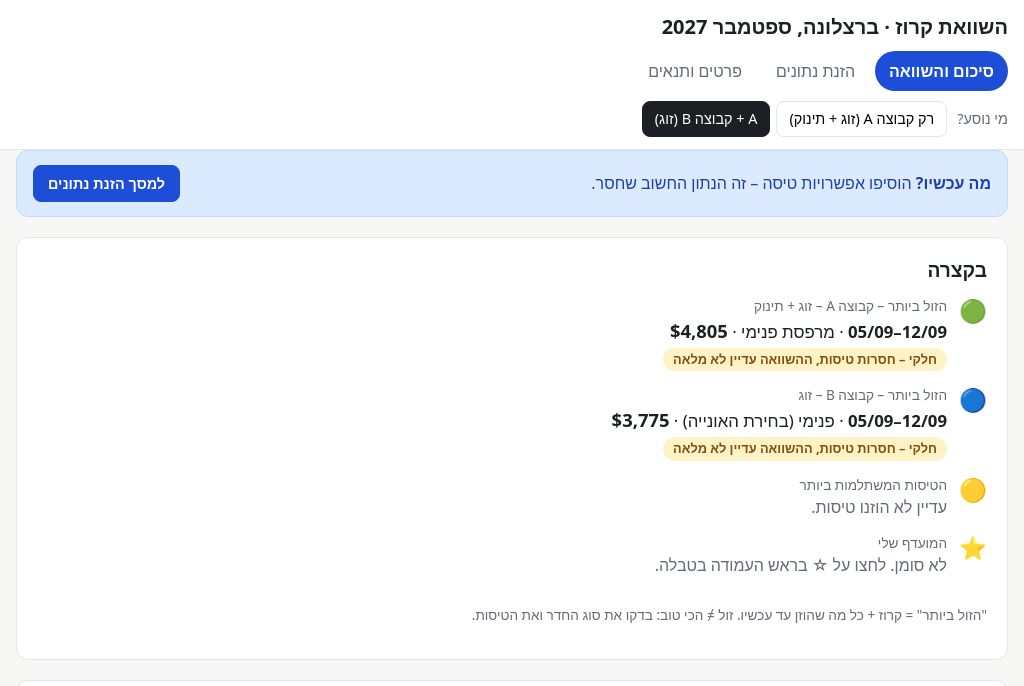
entry screen › can add a new cruise proposal with copied room names but no prices
Click the button "הזנת נתונים": click(815, 71) 762,51 -> 869,91
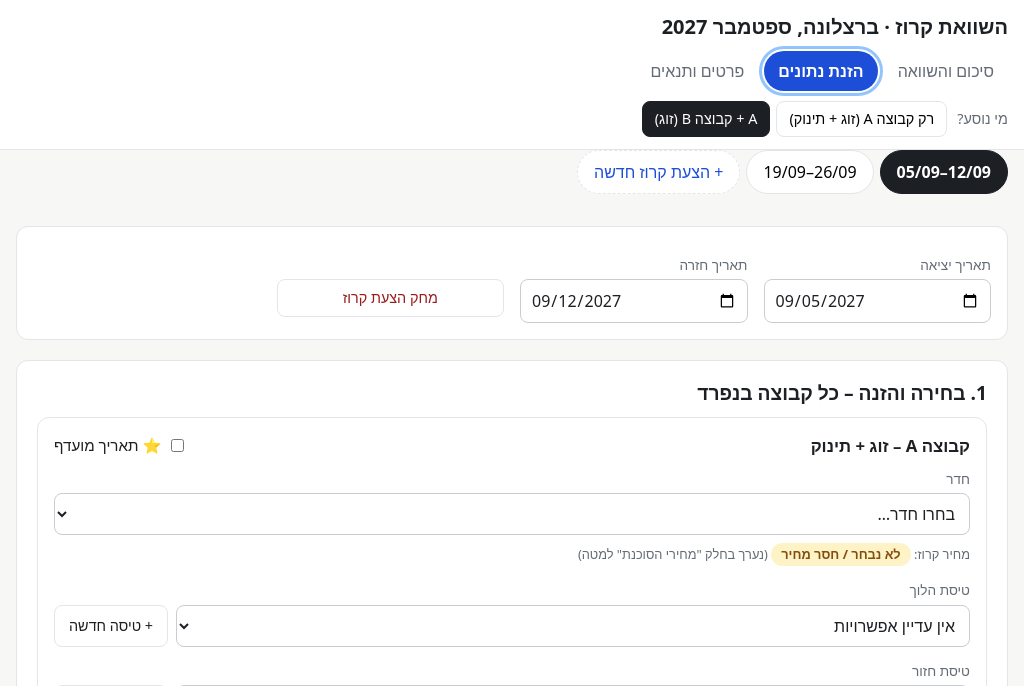
Click the button "+ הצעת קרוז חדשה": click(659, 172) 577,150 -> 740,194
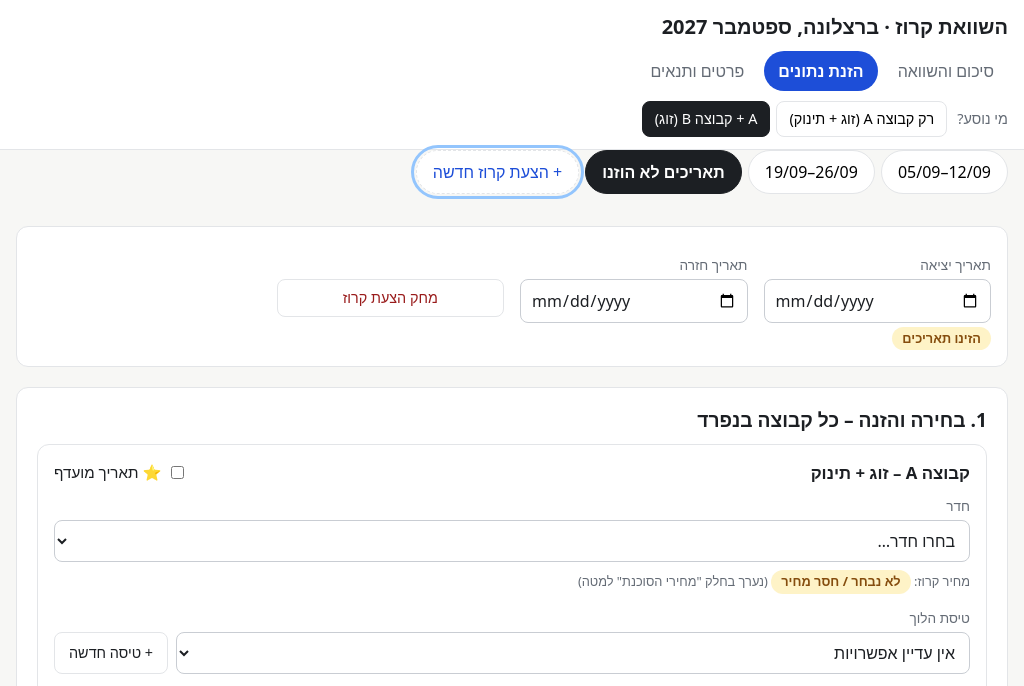
Now the number of tabs is 3, box 881,150 -> 1008,194; 748,150 -> 875,194; 585,150 -> 742,194
Now the text "הזינו תאריכים" is shown, box 892,327 -> 991,350
